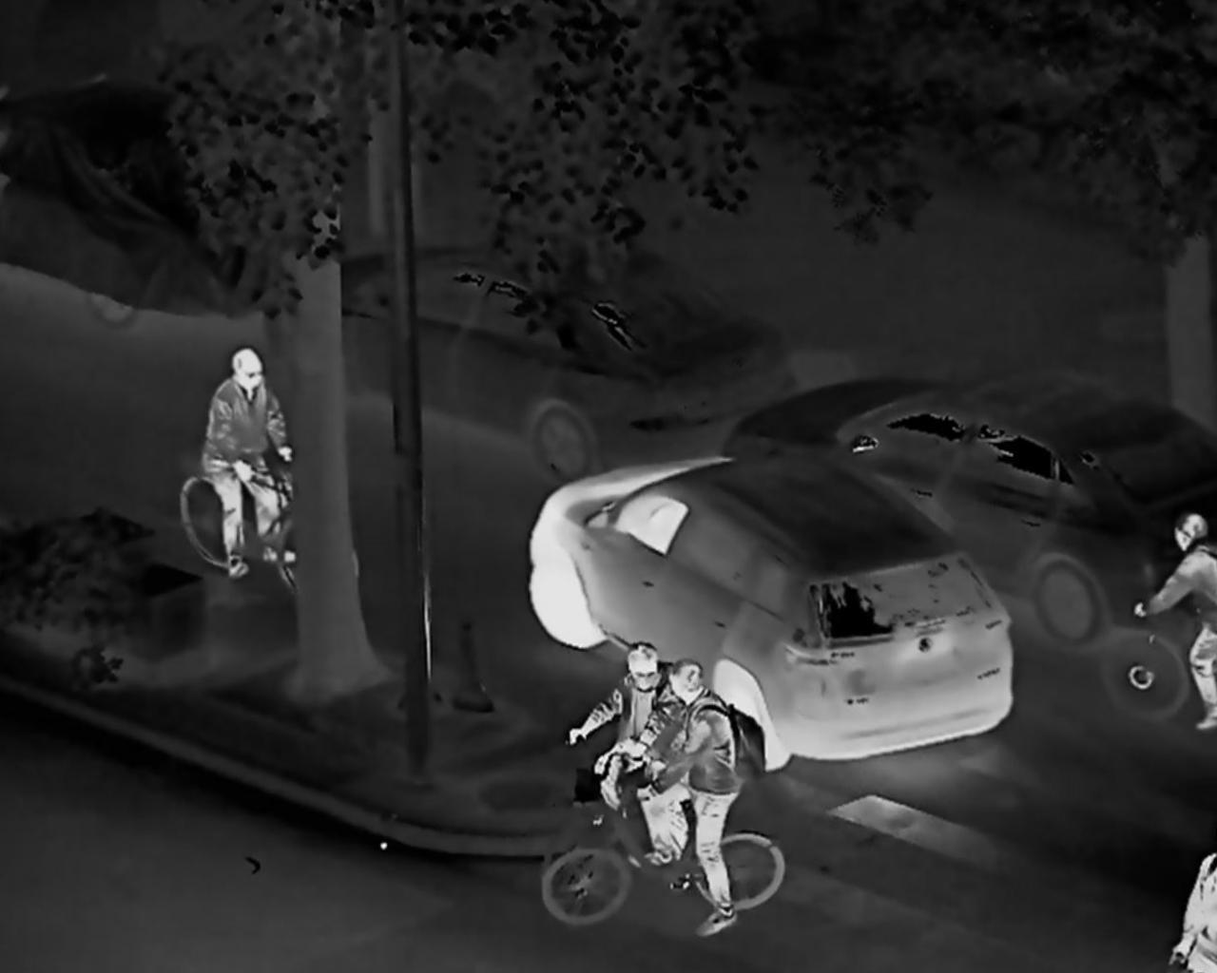person: (191, 334, 312, 616), (635, 652, 741, 950), (574, 620, 680, 869), (1139, 497, 1217, 749)
